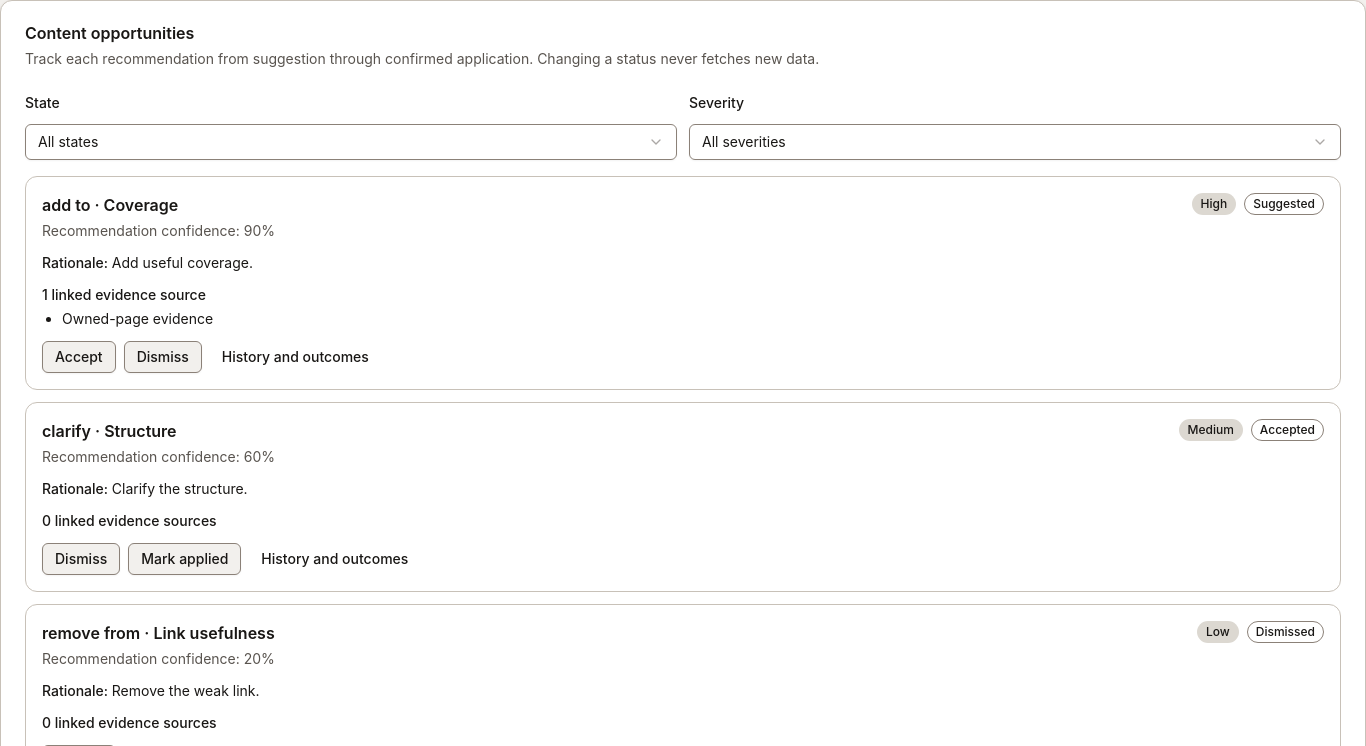
Test: RecommendationWorkflow › shows a failed application check without issuing a mutation
Step 1. Click the button "Mark applied" → click(185, 559), box [128,543,241,575]
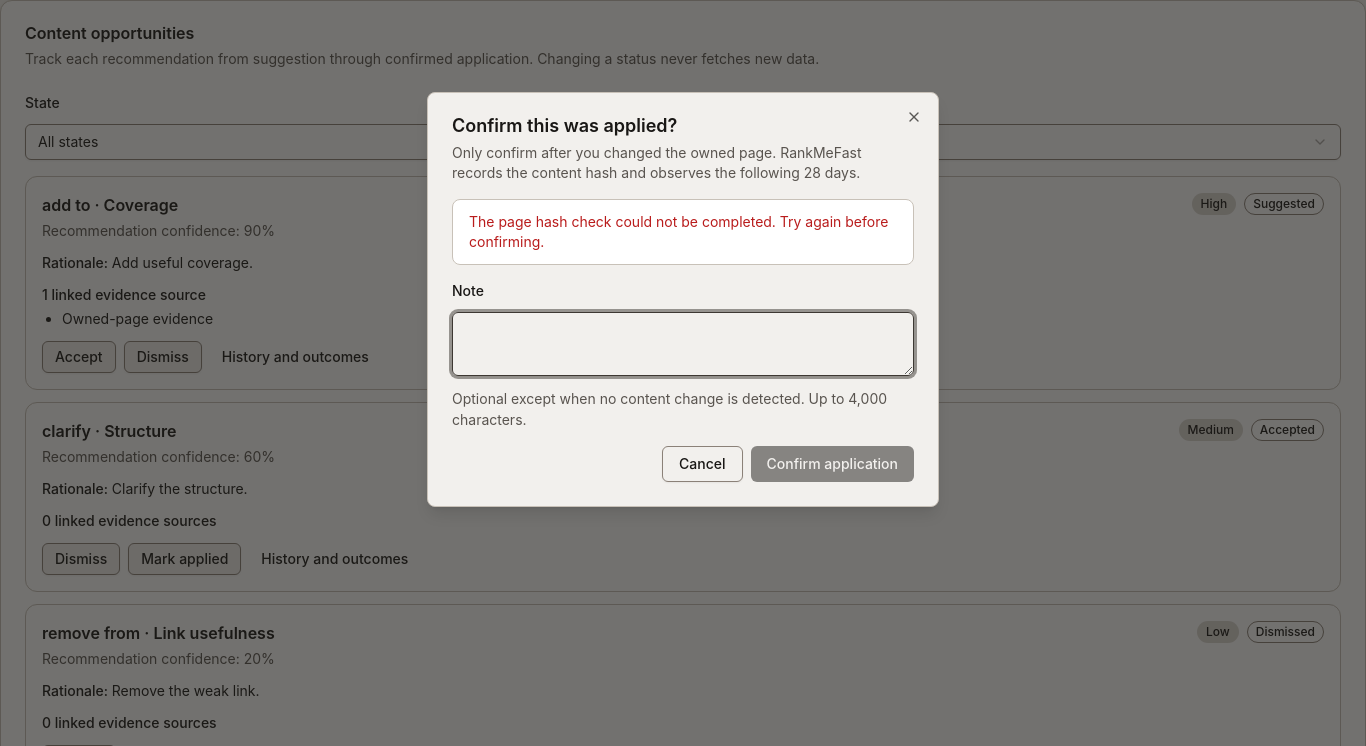
Expected: the text "The page hash check could not be completed. Try again before confirming." is shown, [469,212,897,252]
